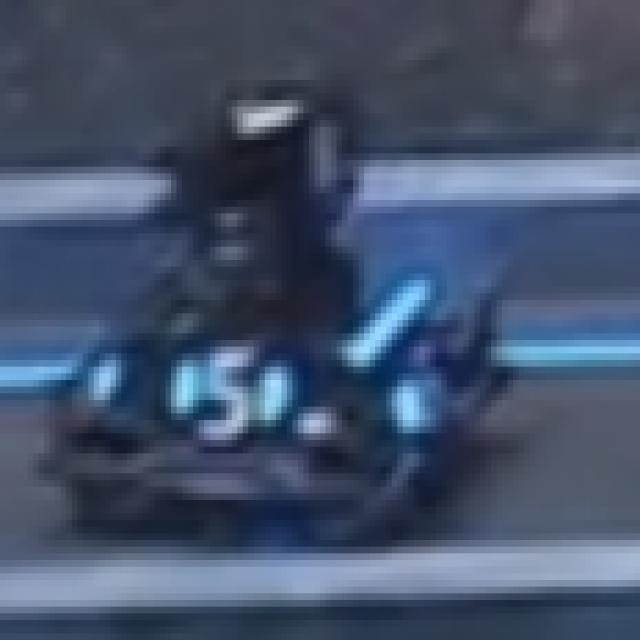B5: (160, 327, 303, 440)
